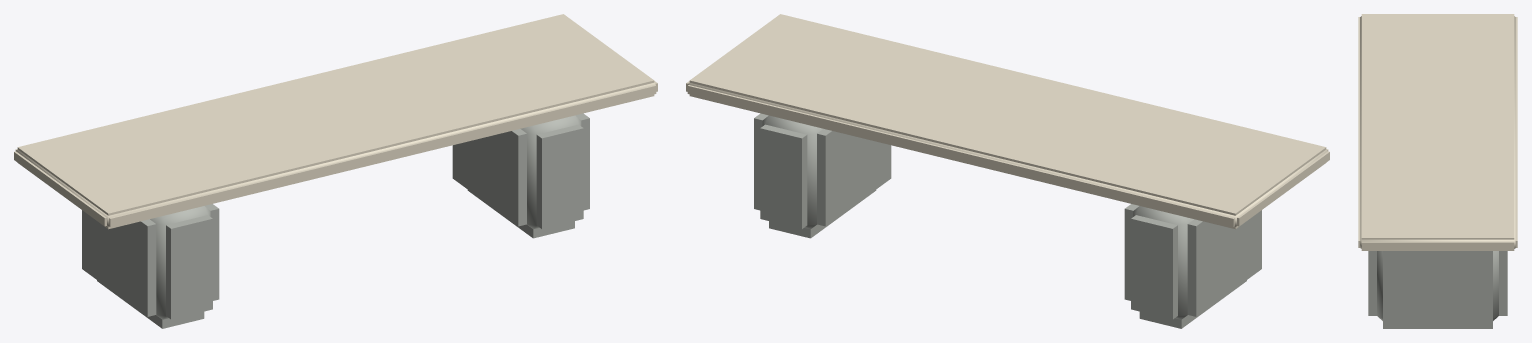
File: StoneBench.glb
3 views of the same model, side by side, from view 1: azimuth 30°, elevation 25°; view 2: azimuth 150°, elevation 25°; view 3: azimuth 270°, elevation 25° (orthographic). The views are drawn at different scales.
Parts seen in each view (by area): view 1: ST_Stone_Seat.001, ST_StoneBench_ST_stone.001; view 2: ST_Stone_Seat.001, ST_StoneBench_ST_stone.001; view 3: ST_Stone_Seat.001, ST_StoneBench_ST_stone.001.
Part boxes in pixels (x1,y1,x2,y2): ST_Stone_Seat.001: (14, 14, 657, 229); ST_StoneBench_ST_stone.001: (82, 113, 589, 328); ST_Stone_Seat.001: (686, 14, 1329, 229); ST_StoneBench_ST_stone.001: (754, 113, 1261, 328); ST_Stone_Seat.001: (1358, 14, 1517, 250); ST_StoneBench_ST_stone.001: (1368, 251, 1507, 328).
Size of the model in its own units: 1.85 by 0.45 by 0.55.
